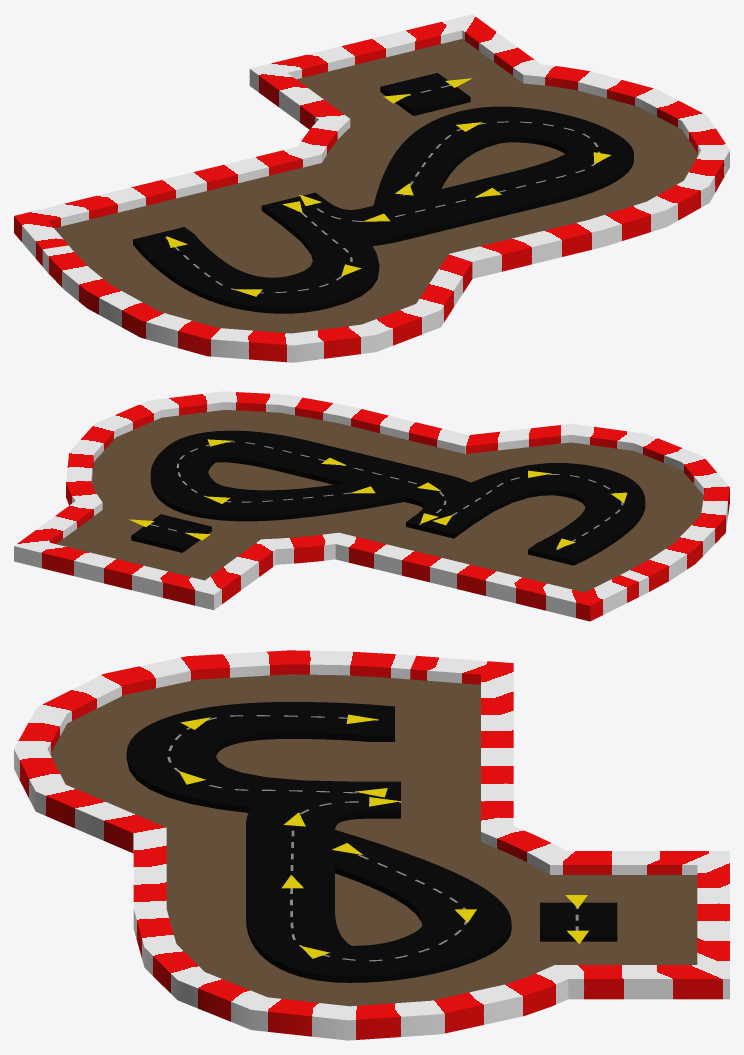
Rendered from dad.FBX.
3 renders of one model, top to bottom at view 1: azimuth 30°, elevation 25°; view 2: azimuth 150°, elevation 25°; view 3: azimuth 270°, elevation 25°, orthographic. The views are drawn at different scales.
Visible parts, largest first — view 1: dad_floor, dad_coll, dad; view 2: dad_floor, dad_coll, dad, Line0; view 3: dad_floor, dad_coll, dad.
Part boxes in pixels (x1,y1,x2,y2): dad_floor: (54,39,698,333); dad_coll: (14,14,729,362); dad: (133,73,633,313); dad_floor: (56,410,703,592); dad_coll: (14,391,729,621); dad: (131,430,645,565); Line0: (176,441,446,524); dad_floor: (50,674,697,1006); dad_coll: (14,650,729,1040); dad: (126,702,617,982).
Size of the model in its own units: 1285 by 32.76 by 1051.
